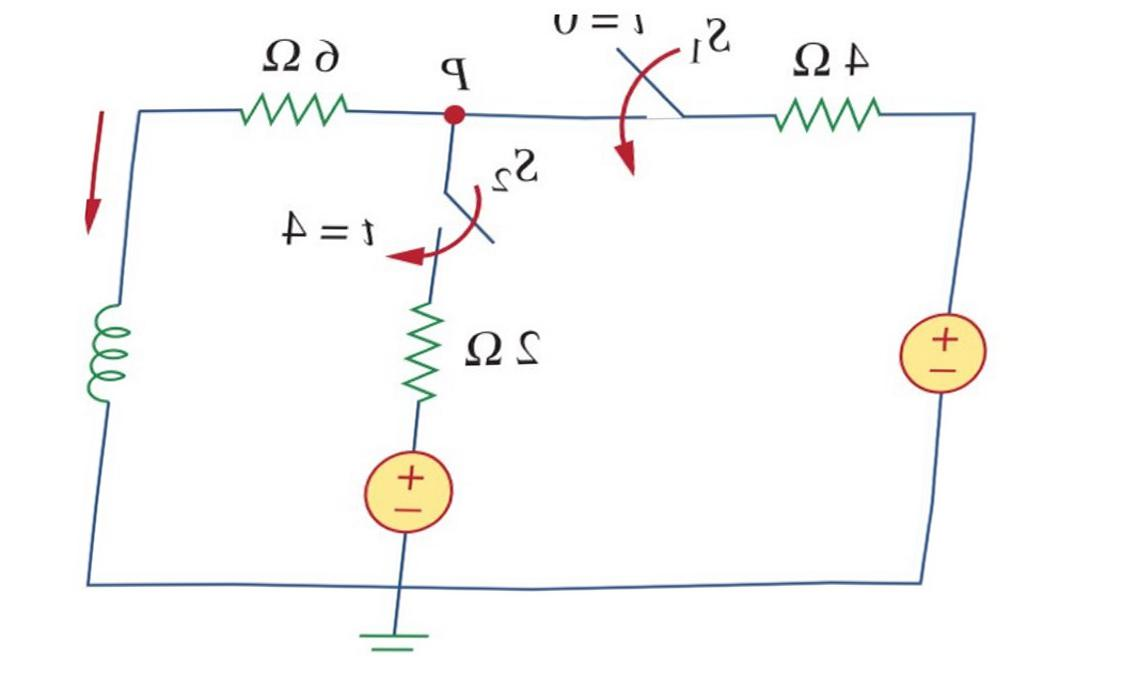Battery: (327, 423, 477, 555), (875, 297, 1009, 412)
